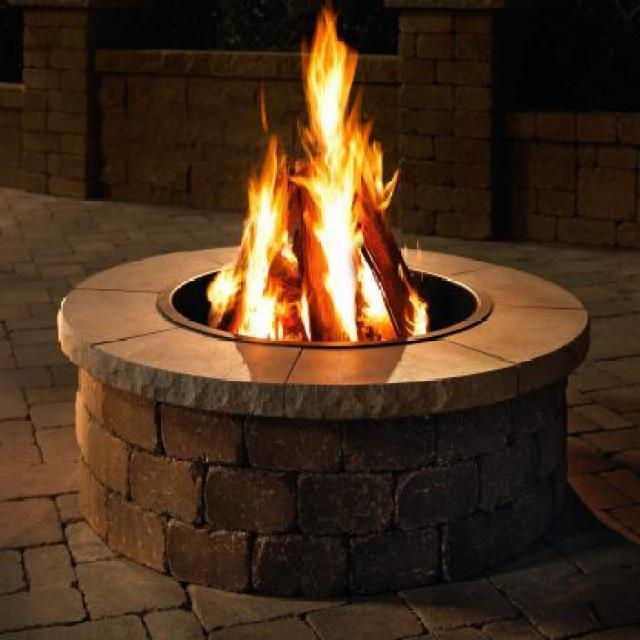Fire: (212, 7, 428, 338)
